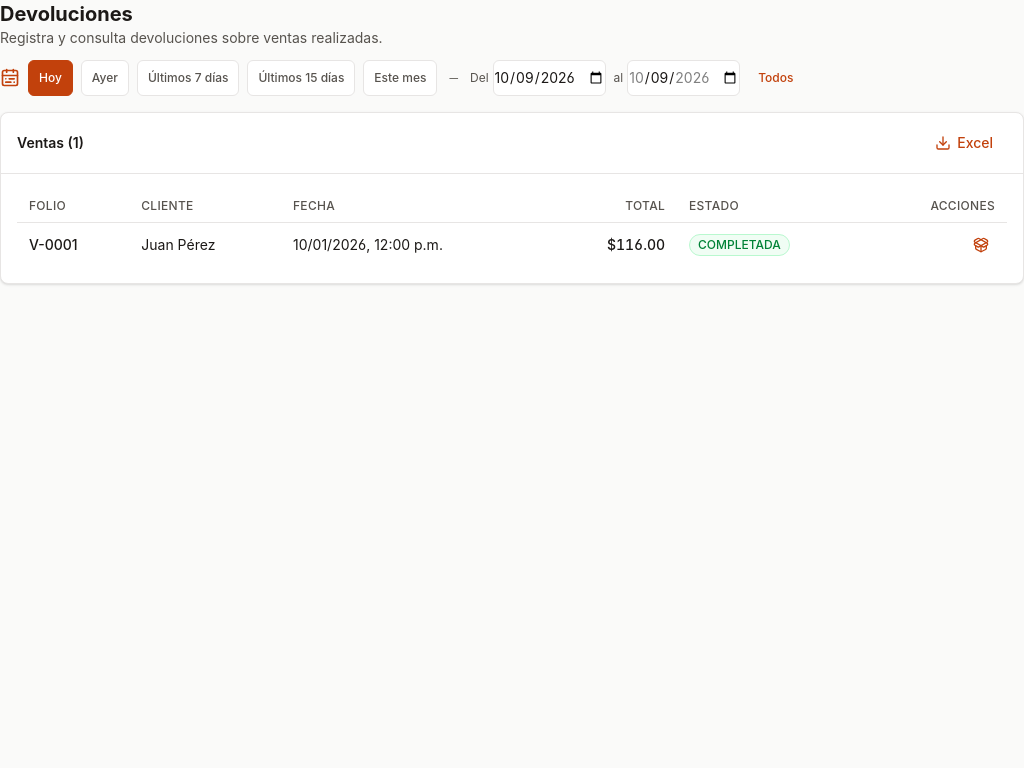
Test: DevolucionesPage › abre el historial de devoluciones de la venta
Click the button named "Devoluciones de V-0001": (981,245) [967,231,995,259]
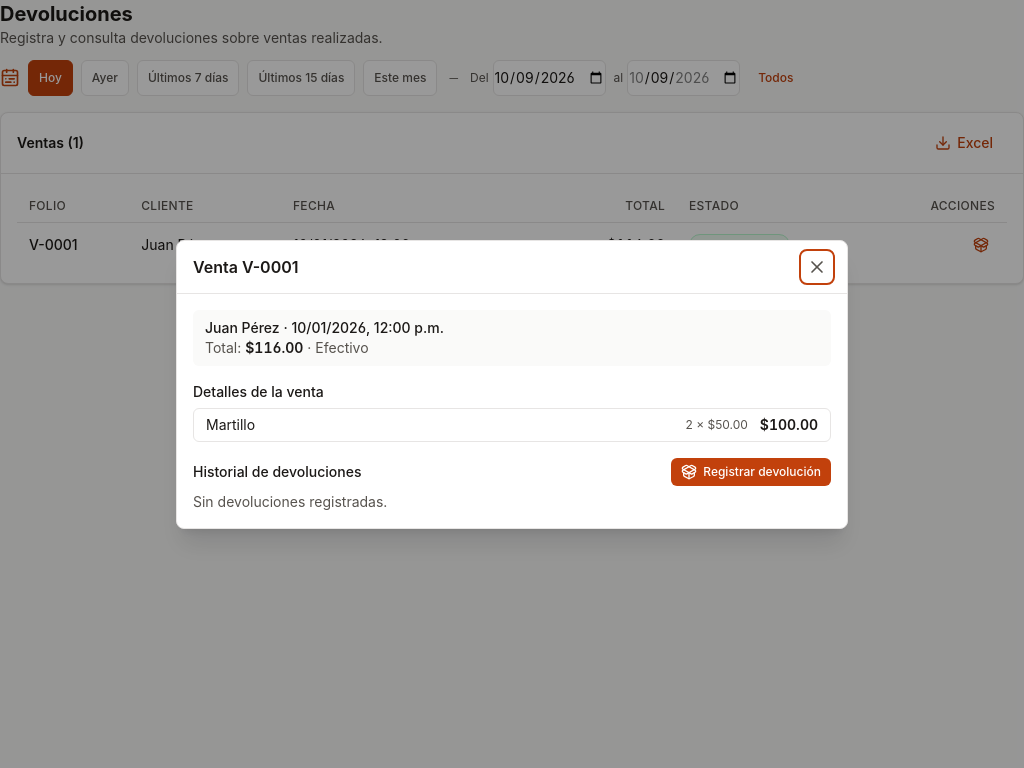
Result: the heading "Venta V-0001" is shown at [193,254,298,278]
Result: the text "Historial de devoluciones" is shown at [193,462,362,482]
Result: the text "Sin devoluciones registradas." is shown at [193,492,387,510]
